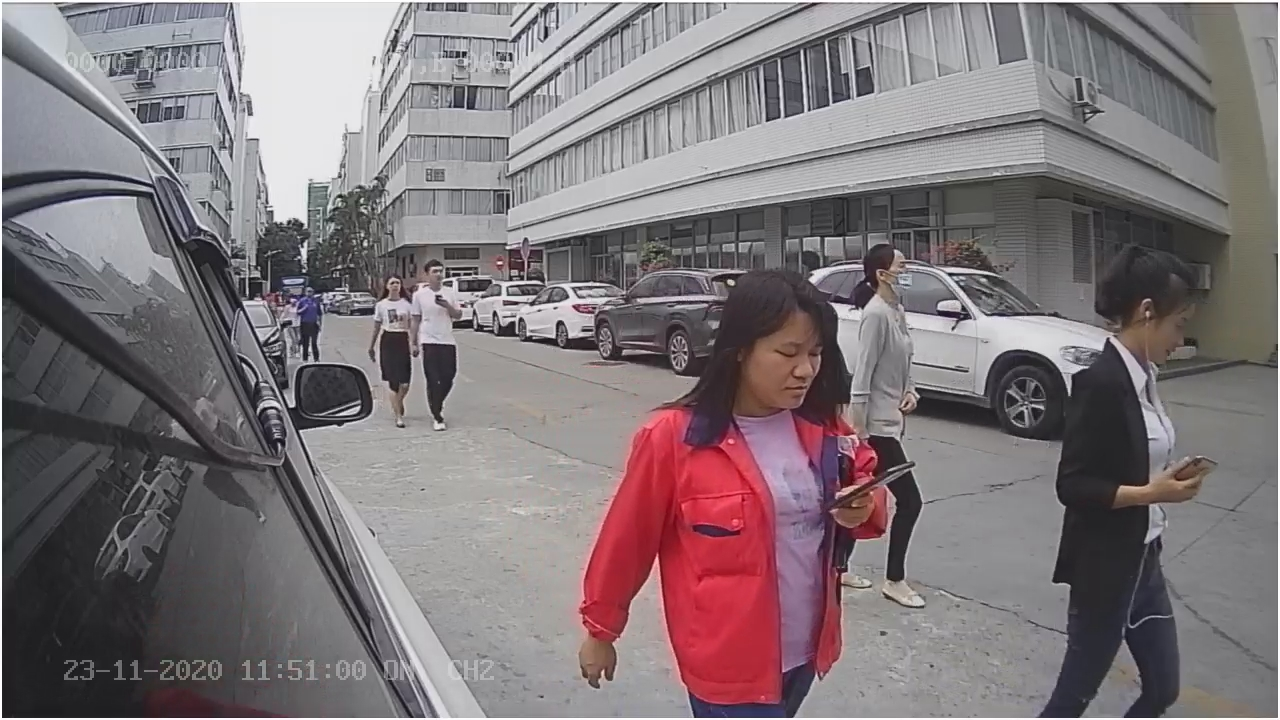person: (836, 232, 948, 425), (370, 270, 428, 429)
